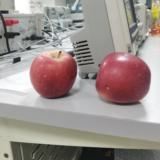apple: (96, 53, 151, 104), (30, 50, 77, 99)
